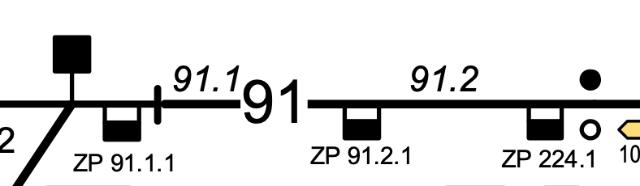radzaehler: (235, 75, 319, 133), (338, 92, 390, 146), (94, 94, 146, 144), (520, 94, 570, 146)
weiche: (44, 26, 98, 110)
